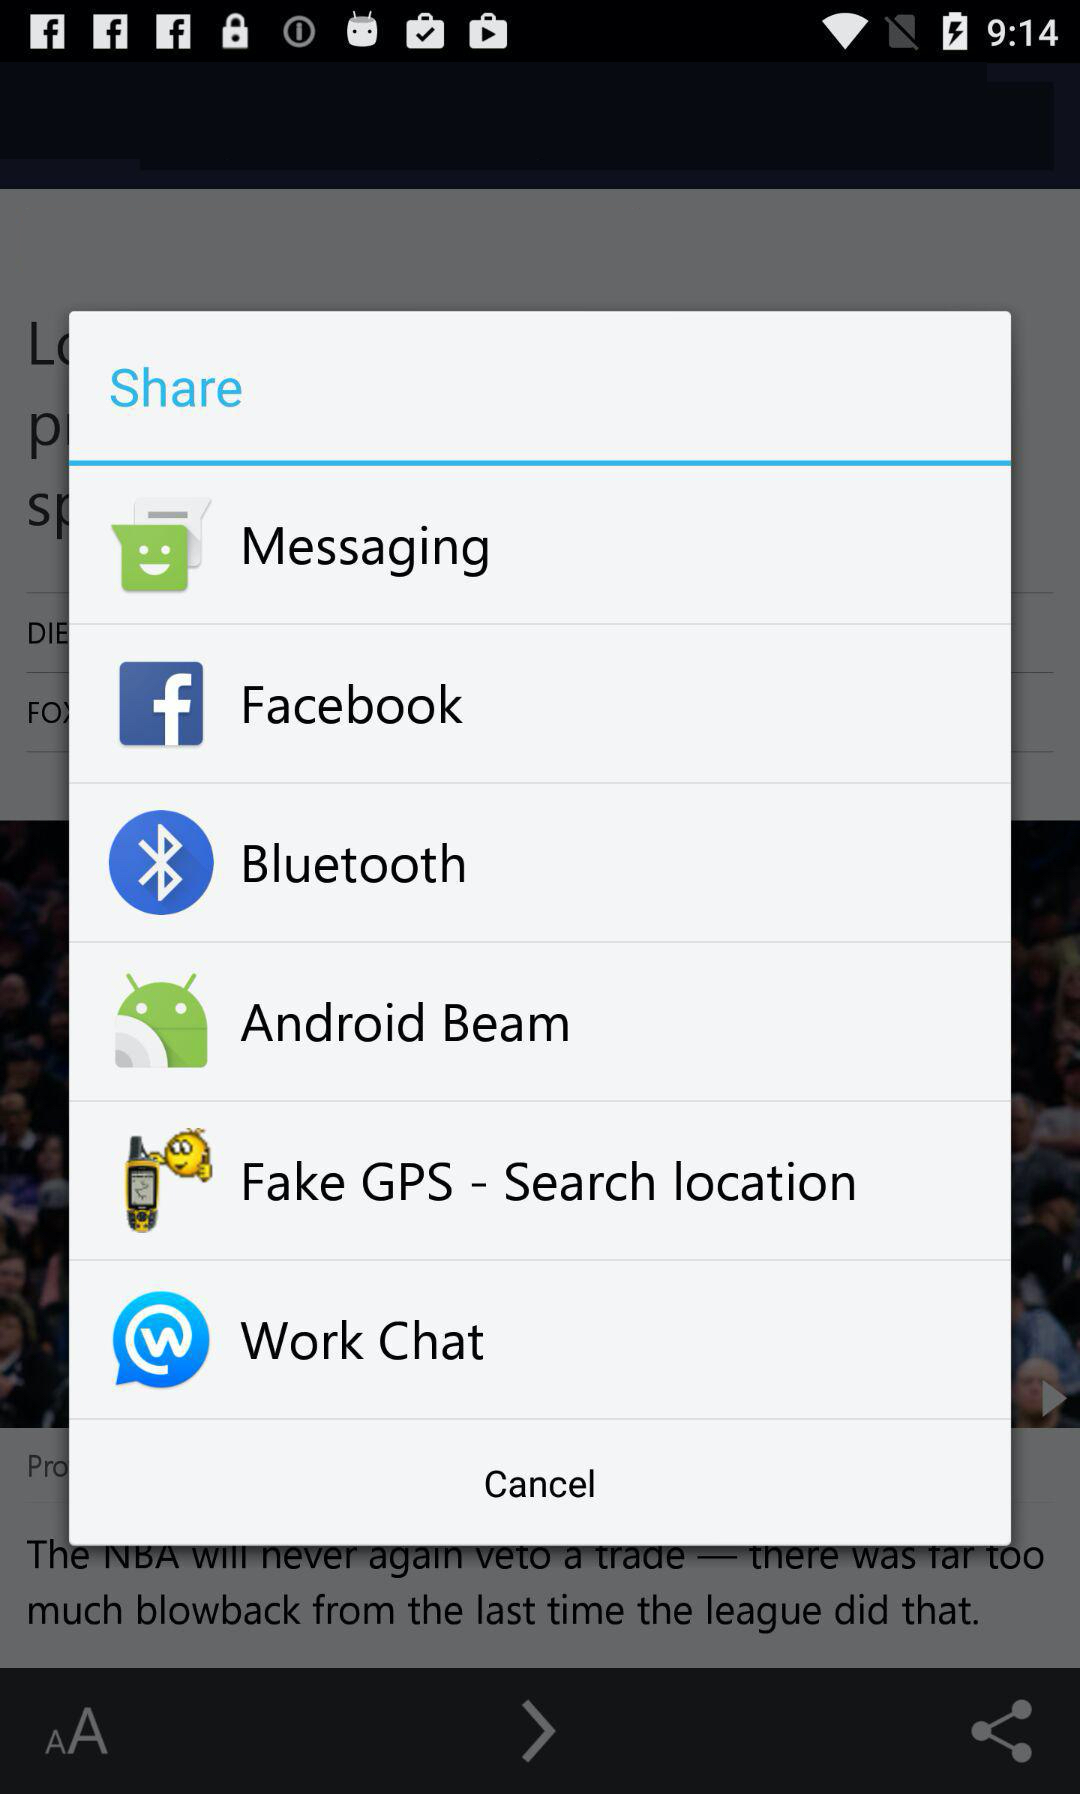Icon: (108, 811, 215, 916), (120, 662, 205, 747), (970, 1698, 1034, 1765), (520, 1698, 559, 1763)
Image: (111, 1290, 211, 1389), (126, 1128, 215, 1233), (111, 498, 213, 591), (114, 973, 209, 1067), (46, 1707, 110, 1756)
Modal: (70, 311, 1013, 1545)
Text: (243, 1161, 855, 1203), (243, 525, 489, 578), (241, 1003, 569, 1042), (240, 1319, 486, 1361), (243, 842, 466, 885), (243, 683, 464, 725), (111, 366, 243, 407)
TextButton: (70, 1420, 1011, 1545)
UpperTaskBar: (1, 1, 1080, 64)
